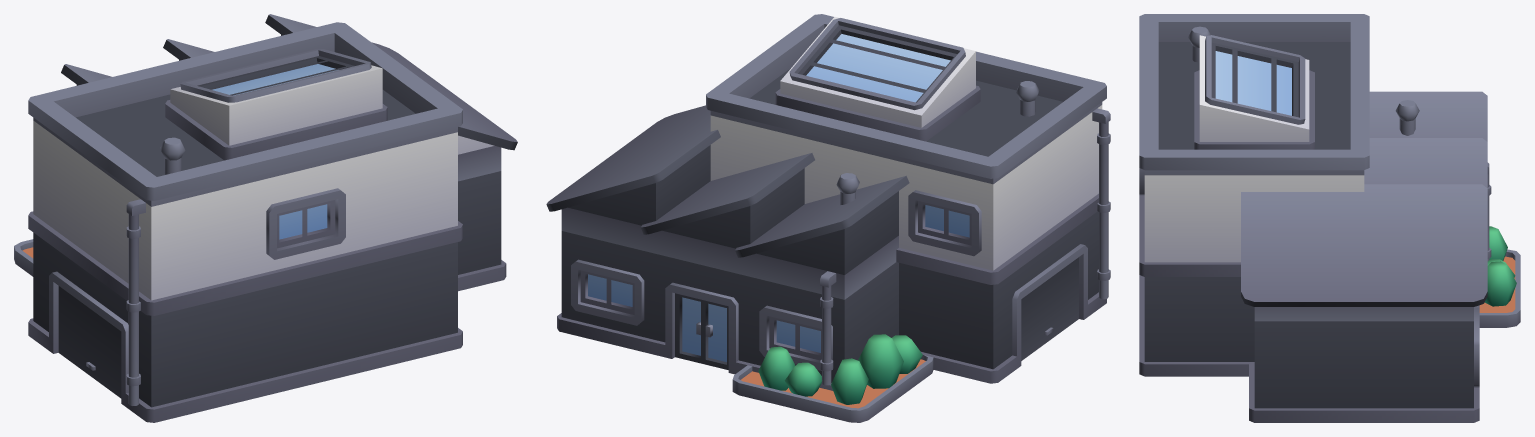
Rendered from building-t.glb.
3 views of the same model, side by side, from view 1: azimuth 30°, elevation 25°; view 2: azimuth 150°, elevation 25°; view 3: azimuth 270°, elevation 25° (orthographic). The views are drawn at different scales.
Parts seen in each view (by area): view 1: building-t; view 2: building-t; view 3: building-t.
Boxes of the visible parts, bbox=[...] form: building-t: bbox=[14, 14, 517, 422]; building-t: bbox=[546, 14, 1110, 422]; building-t: bbox=[1139, 14, 1520, 422].
Bounding box in the file's own units: 1.72 × 1.01 × 1.39.
2 materials, 2 textured.
